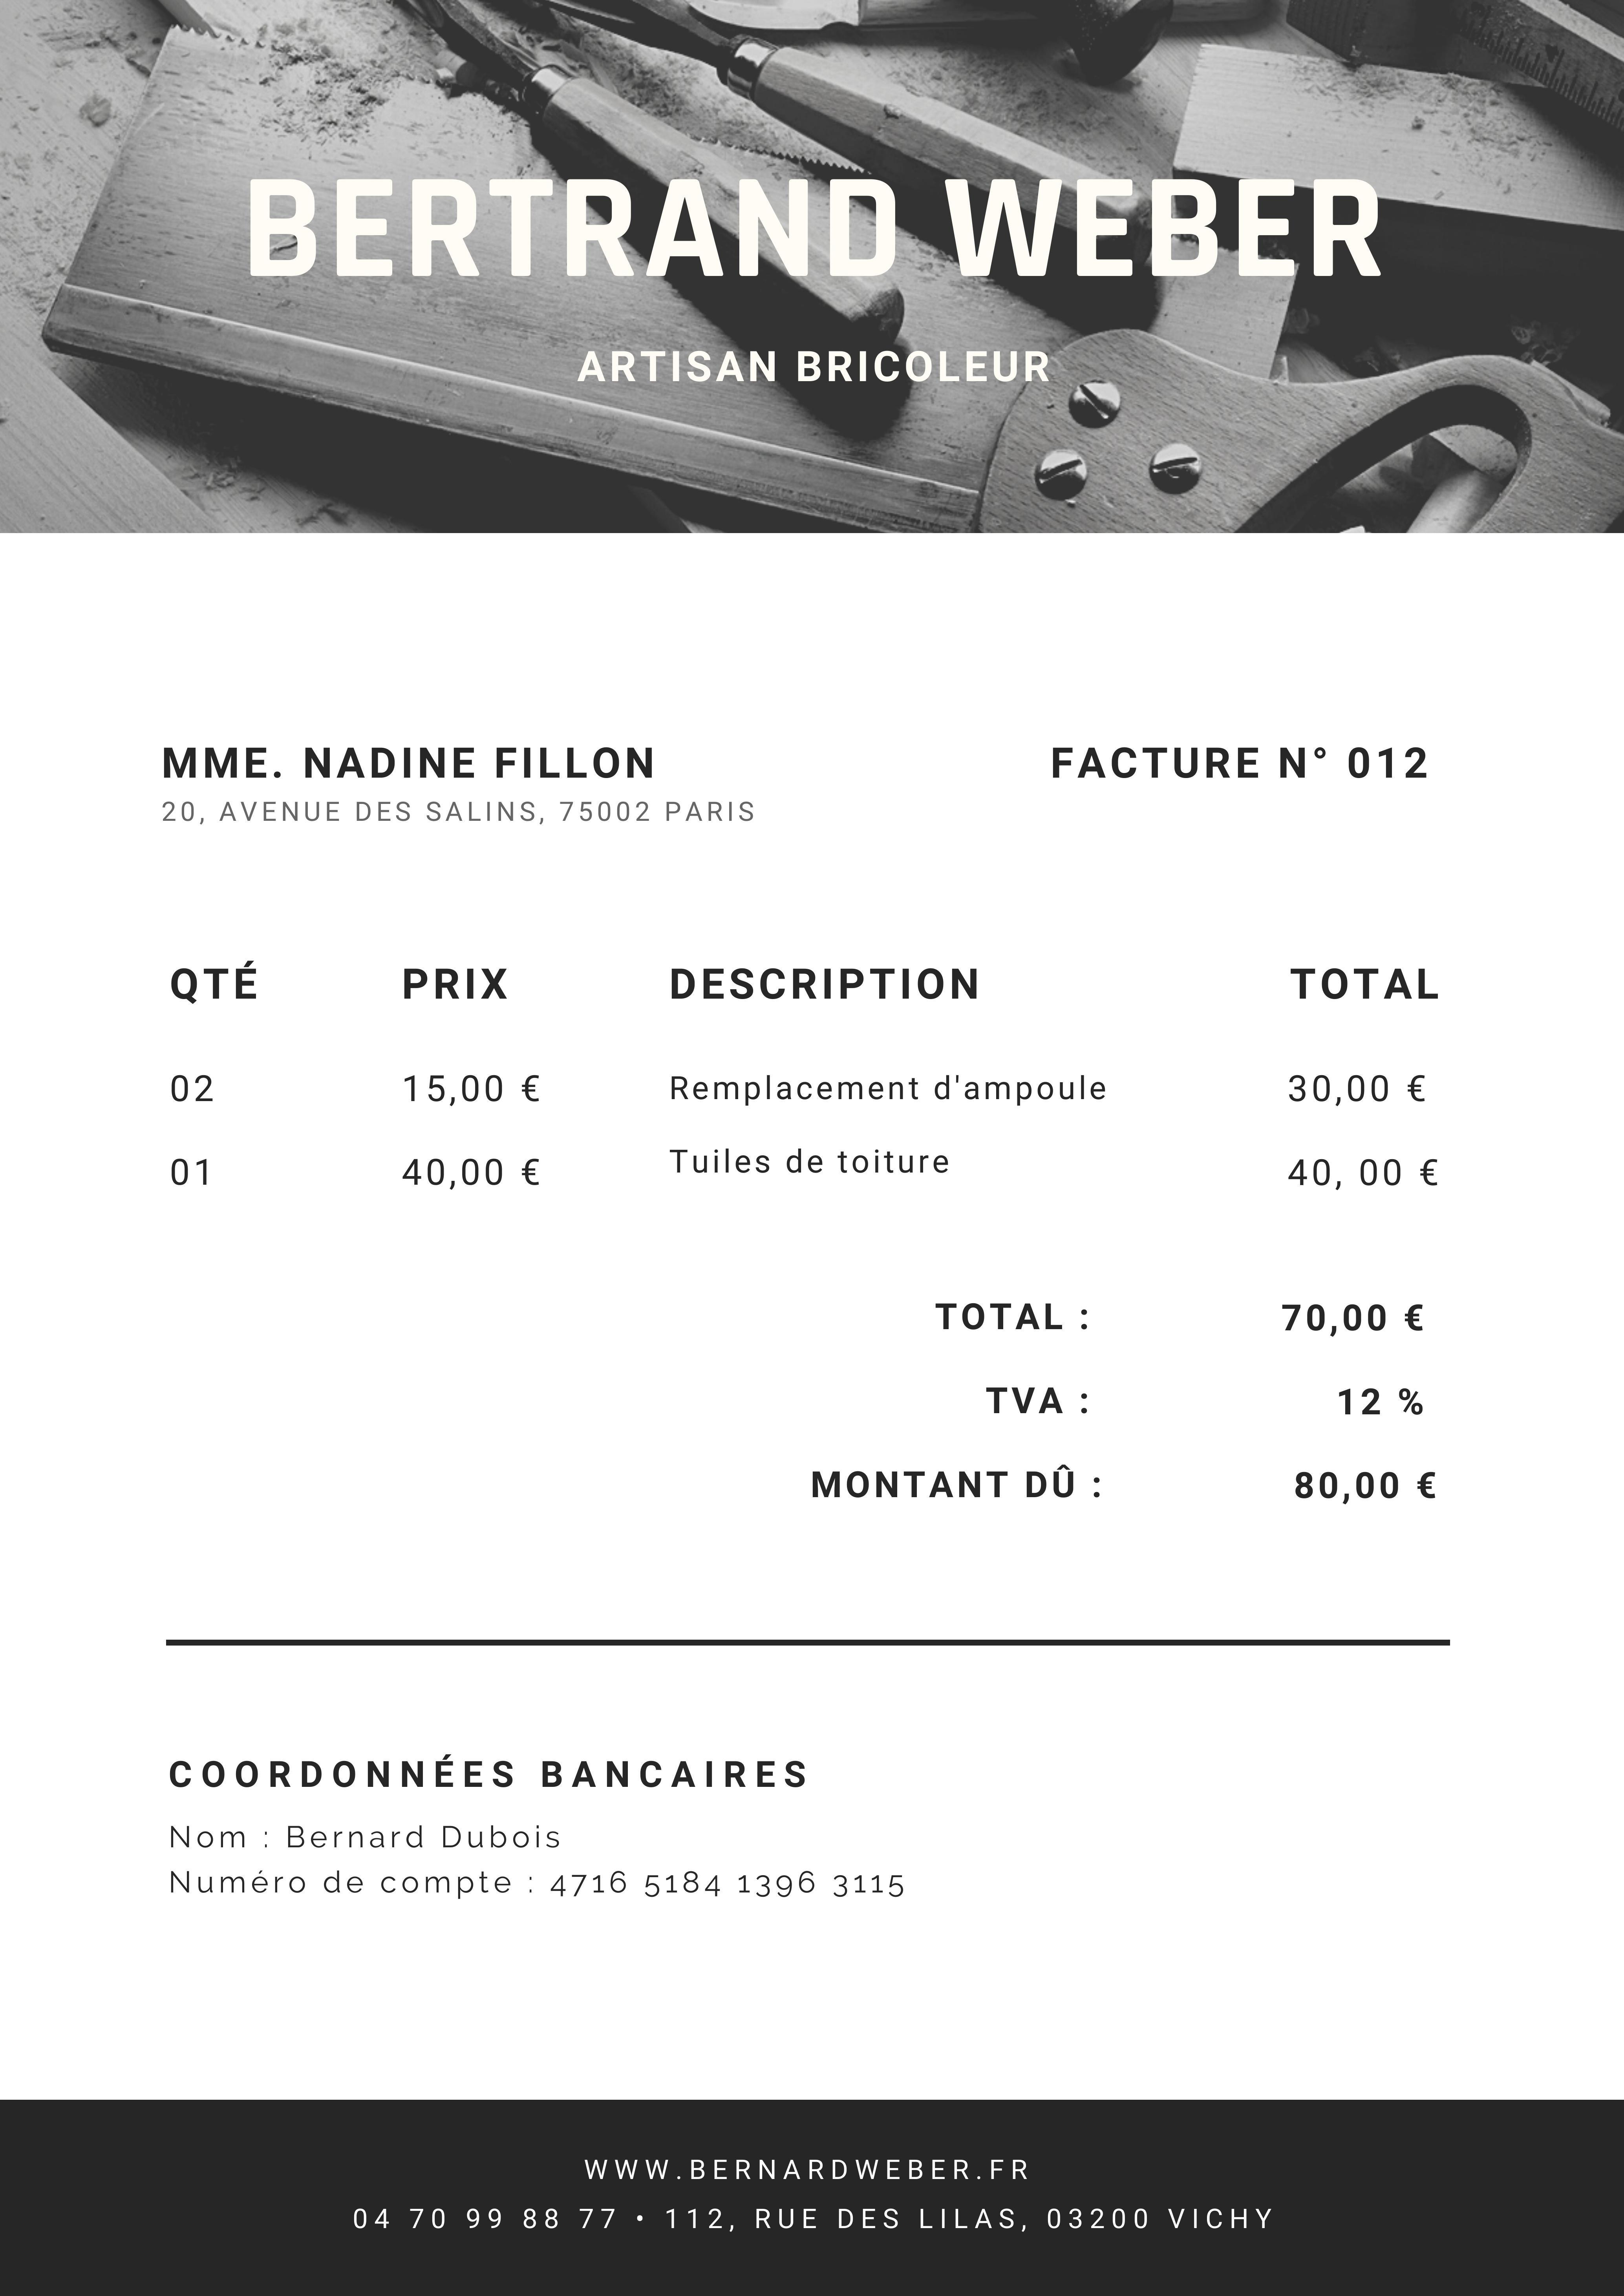ROI: (135, 934, 1472, 1233), (185, 124, 1419, 306), (761, 1284, 1483, 1576), (160, 1744, 924, 1922), (124, 720, 789, 877), (1014, 725, 1468, 832)
